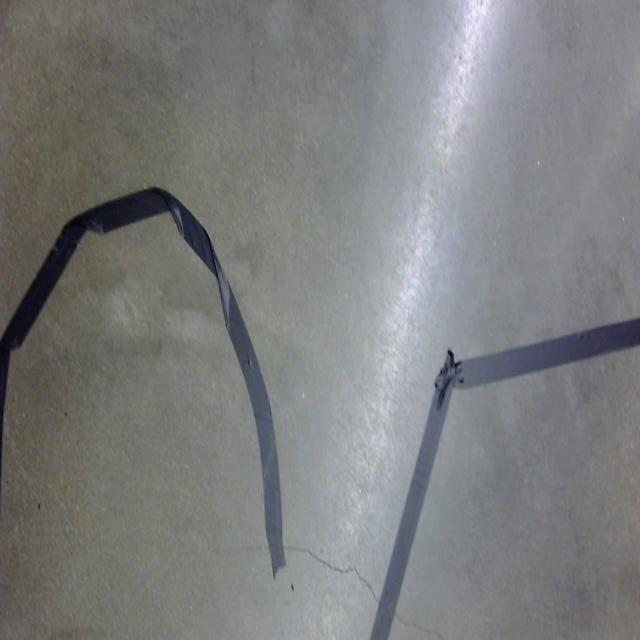tape: (0, 188, 286, 574), (369, 318, 640, 640), (150, 192, 287, 581)
